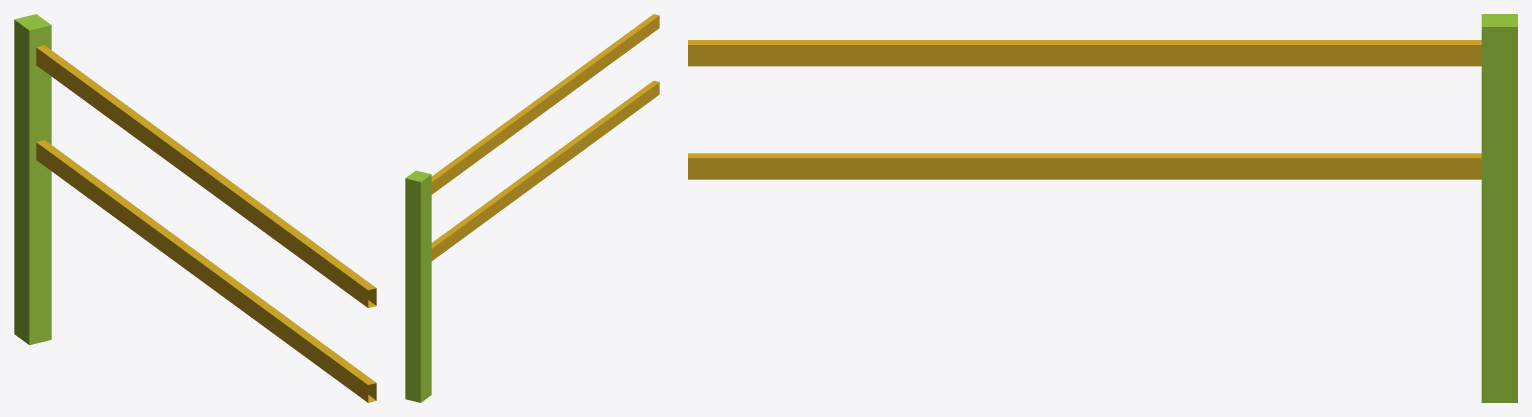
File: Gasometro_Rail.fbx
3 renders of one model, left to right at view 1: azimuth 30°, elevation 25°; view 2: azimuth 150°, elevation 25°; view 3: azimuth 270°, elevation 25°, orthographic. The views are drawn at different scales.
Visible parts, largest first — view 1: GasometroRail_001; view 2: GasometroRail_001; view 3: GasometroRail_001.
Part boxes in pixels (bbox=[...]): GasometroRail_001: bbox=[14, 14, 376, 402]; GasometroRail_001: bbox=[405, 14, 659, 402]; GasometroRail_001: bbox=[688, 14, 1517, 402].
Size of the model in its own units: 0.1476 by 2 by 4.
